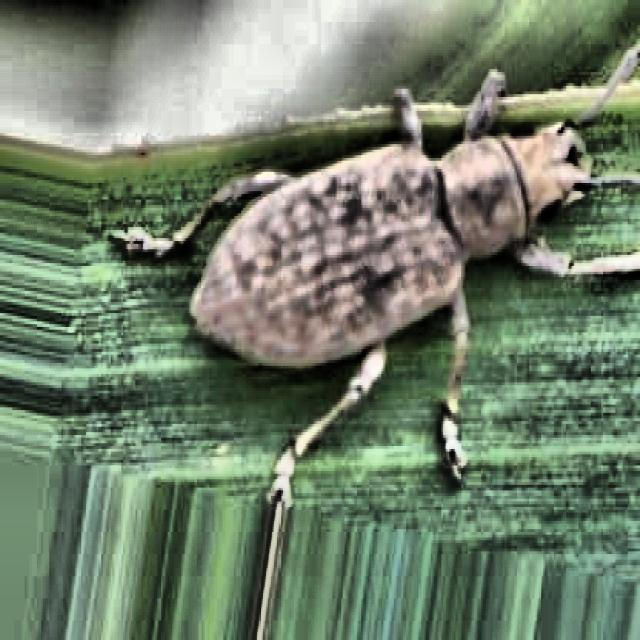Stink bug: (156, 62, 602, 476)
